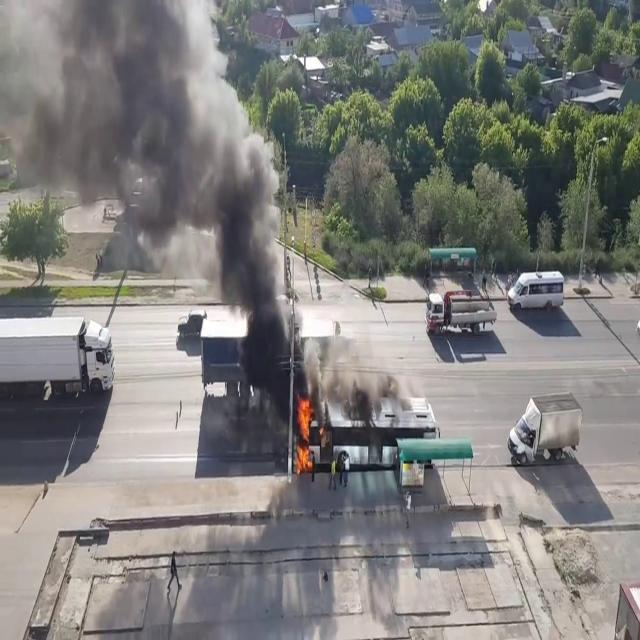Fire: (294, 391, 316, 473)
Smoke: (2, 1, 308, 386), (317, 312, 422, 436)
